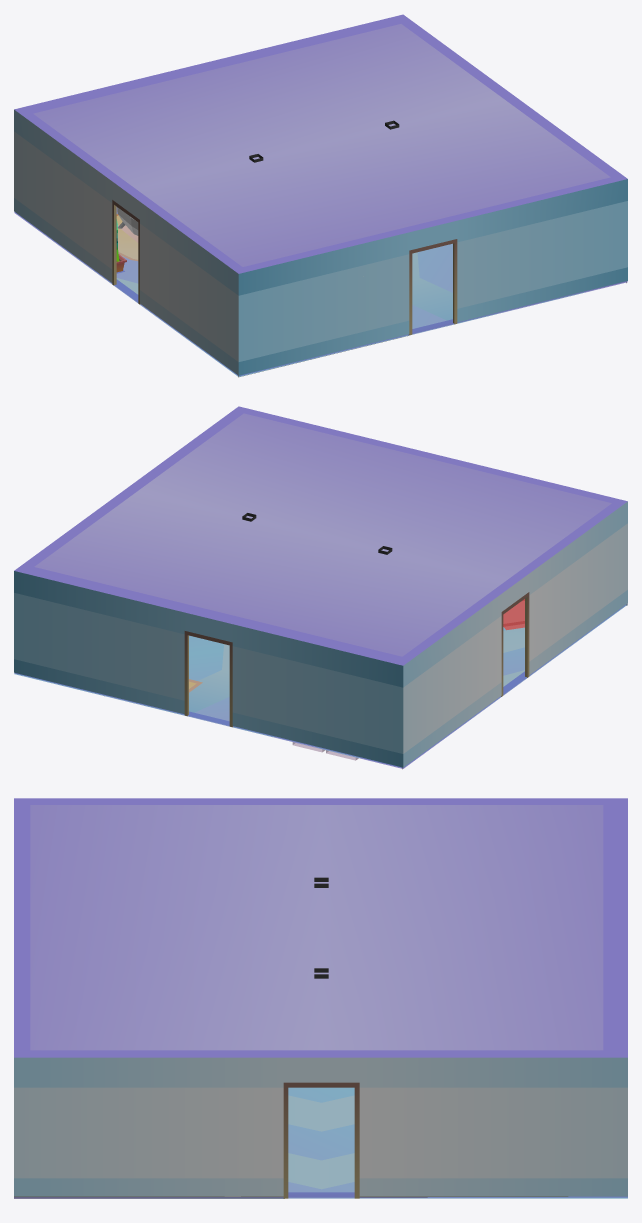
The model's file is bathroom.fbx.
3 renders of one model, top to bottom at view 1: azimuth 30°, elevation 25°; view 2: azimuth 150°, elevation 25°; view 3: azimuth 270°, elevation 25°, orthographic. The views are drawn at different scales.
Parts seen in each view (by area): view 1: bathroom; view 2: bathroom; view 3: bathroom.
Part boxes in pixels (x1,y1,x2,y2): bathroom: (14,14,627,377); bathroom: (14,406,627,769); bathroom: (14,798,627,1198).
Size of the model in its own units: 12 by 3.35 by 12.
